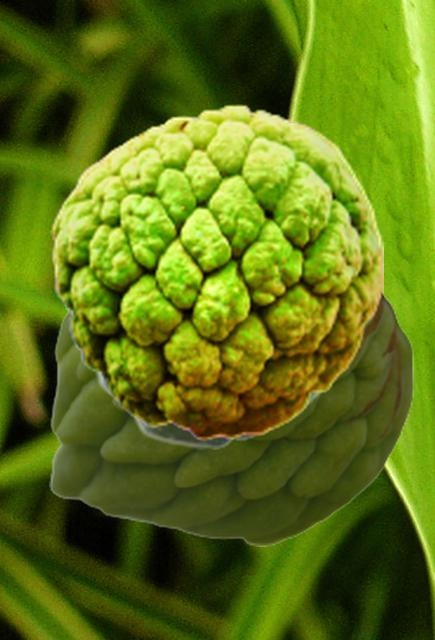atis: (50, 103, 382, 440), (49, 287, 412, 545), (63, 306, 341, 448)
